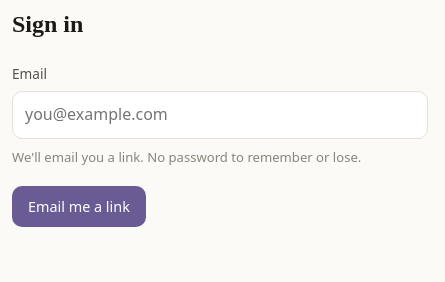
Test: when the mail provider is down › tells the author the email did not go out
Type "a@b.co" into the field labelled "Email". click: point(220, 115)
box: top-left (12, 91), bottom-right (428, 139)
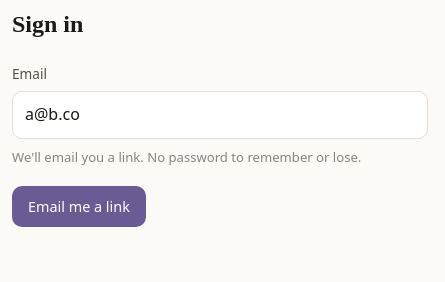
Click the button "Email me a link". click: point(79, 206)
box: top-left (12, 186), bottom-right (146, 226)
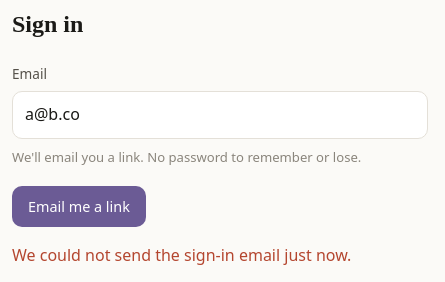
Expected: the text "We could not send the sign-in email just now." is shown, top-left (12, 244), bottom-right (351, 266)
